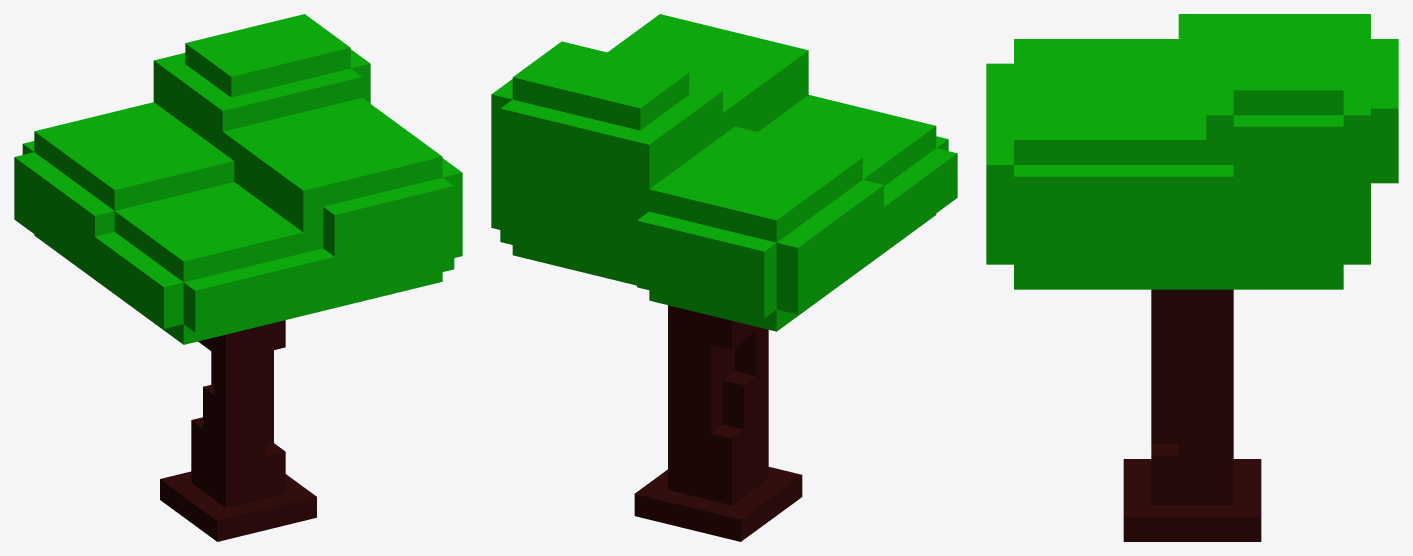
File: Tree_1_1.fbx
3 views of the same model, side by side, from view 1: azimuth 30°, elevation 25°; view 2: azimuth 150°, elevation 25°; view 3: azimuth 270°, elevation 25° (orthographic). The views are drawn at different scales.
Visible parts, largest first — view 1: Tree_1_1; view 2: Tree_1_1; view 3: Tree_1_1.
Boxes of the visible parts, x1,y1,x2,y2 form: Tree_1_1: [14, 14, 462, 541]; Tree_1_1: [491, 14, 957, 541]; Tree_1_1: [986, 14, 1398, 541].
Size of the model in its own units: 1500 by 2000 by 1500.
